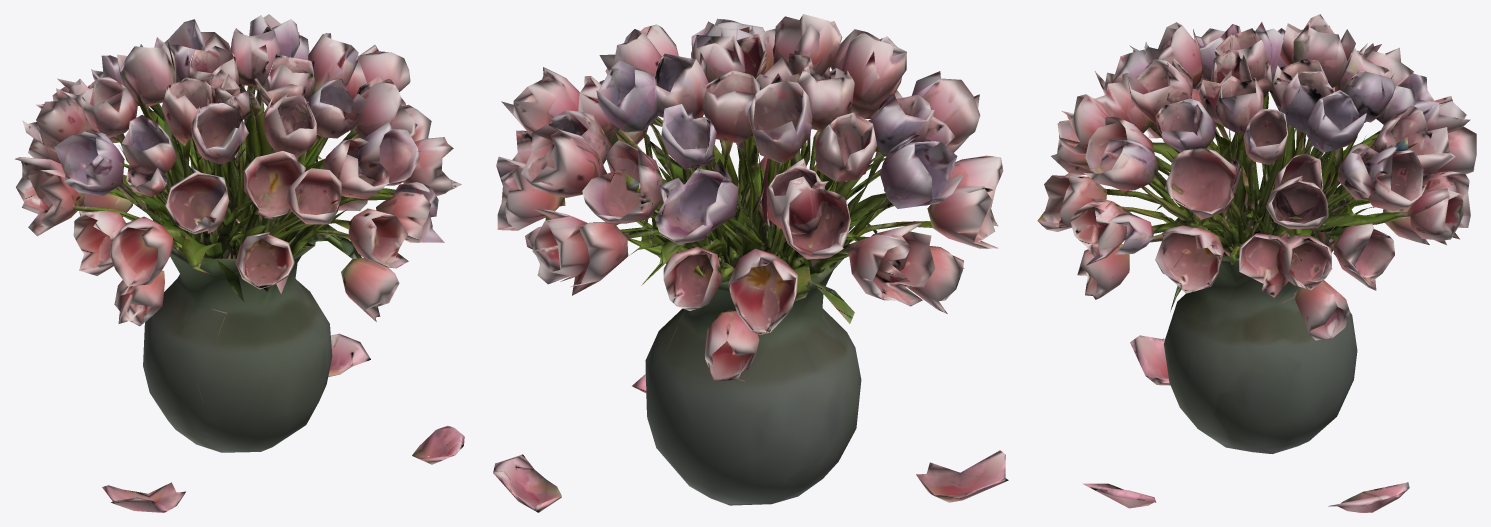
Rendered from vazo.fbx.
3 views of the same model, side by side, from view 1: azimuth 30°, elevation 25°; view 2: azimuth 150°, elevation 25°; view 3: azimuth 270°, elevation 25° (orthographic). The views are drawn at different scales.
Parts seen in each view (by area): view 1: Mesh_0; view 2: Mesh_0; view 3: Mesh_0.
Part boxes in pixels (left/top/right/bottom): Mesh_0: left=15, top=14, right=464, bottom=512; Mesh_0: left=493, top=14, right=1008, bottom=512; Mesh_0: left=1037, top=14, right=1476, bottom=512.
Bounding box in the file's own units: 189 × 190 × 188.
1 material, 1 textured.
